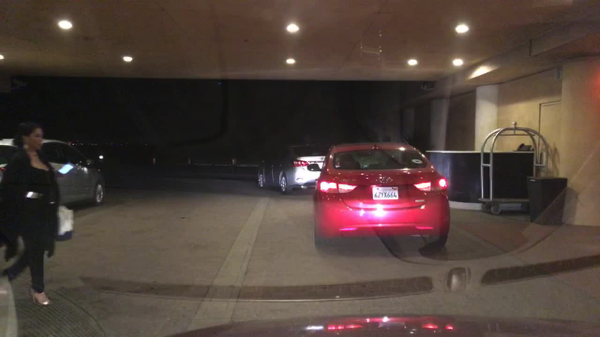car: (313, 140, 448, 254), (0, 136, 105, 205), (257, 142, 328, 191)
person: (0, 122, 74, 307)
